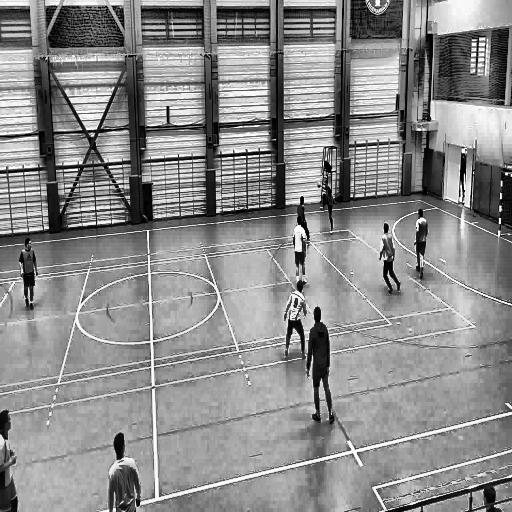ball: (316, 179, 322, 191)
player: (305, 306, 336, 426), (107, 429, 140, 512), (0, 408, 18, 512), (284, 280, 306, 361), (379, 223, 402, 296), (19, 238, 39, 312), (413, 206, 428, 284), (292, 217, 308, 285), (320, 177, 338, 237), (297, 194, 312, 242)
